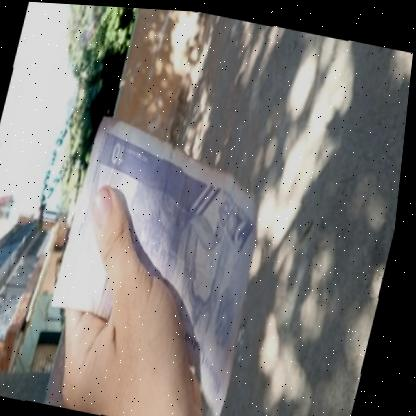ten-back-vef: (35, 107, 288, 416)
